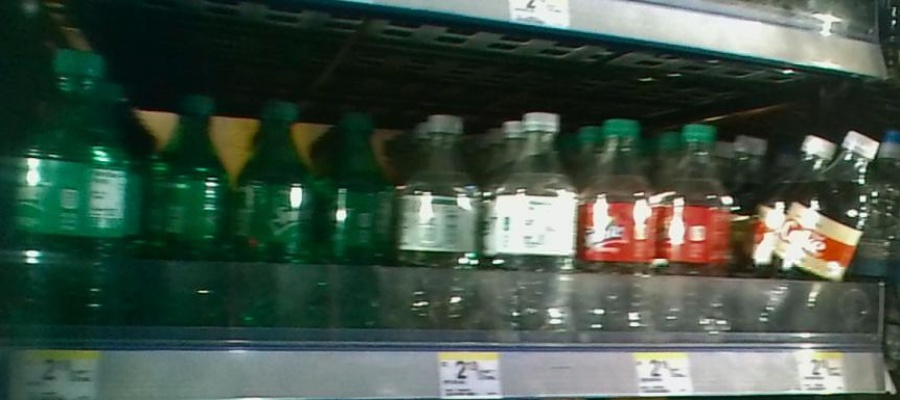bottle: (17, 35, 131, 361), (772, 130, 868, 362), (238, 85, 321, 349), (488, 106, 577, 352), (148, 87, 231, 349), (396, 108, 482, 351), (582, 116, 660, 361), (664, 117, 736, 349), (324, 102, 390, 349)
